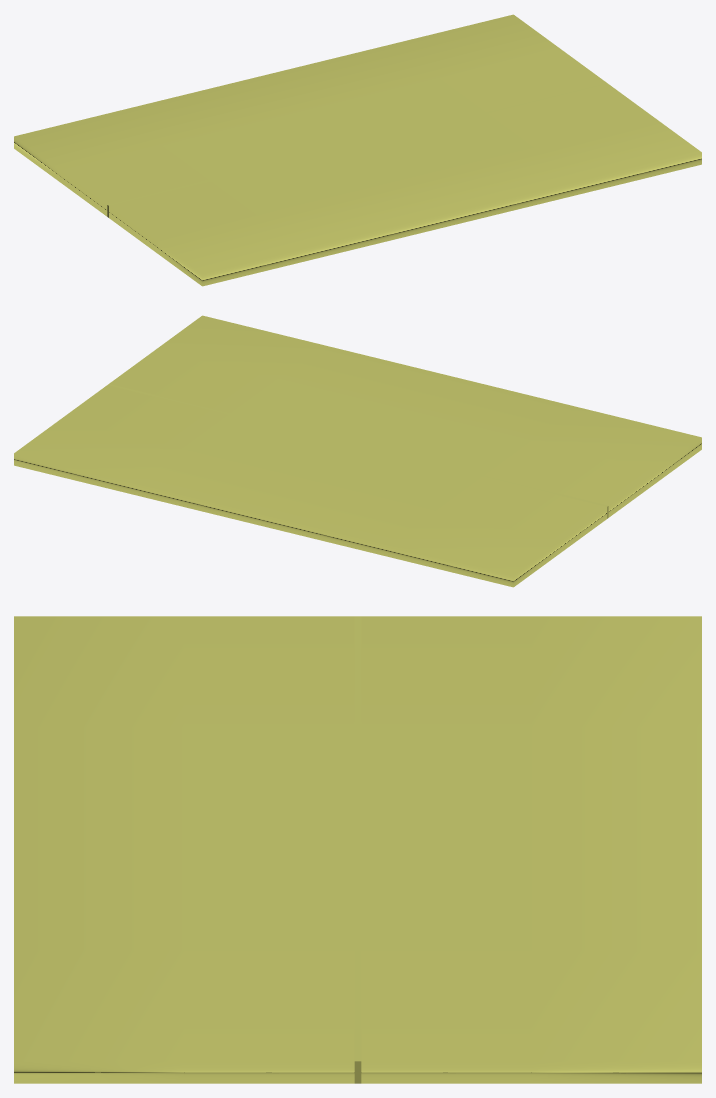
Rendered from pathlarge 1.fbx.
3 renders of one model, top to bottom at view 1: azimuth 30°, elevation 25°; view 2: azimuth 150°, elevation 25°; view 3: azimuth 270°, elevation 25°, orthographic. The views are drawn at different scales.
Parts seen in each view (by area): view 1: Cube; view 2: Cube; view 3: Cube.
Boxes of the visible parts, <box> form: Cube: <box>14,14,701,286</box>; Cube: <box>14,315,701,587</box>; Cube: <box>14,616,701,1083</box>.
Bounding box in the file's own units: 198 × 4.62 × 129.
